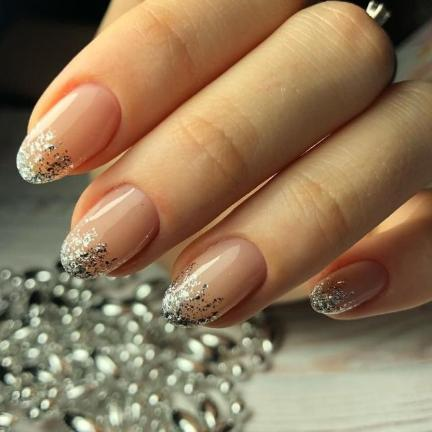Nail: (16, 83, 122, 184), (160, 237, 266, 329), (61, 184, 160, 280), (309, 260, 388, 314)
